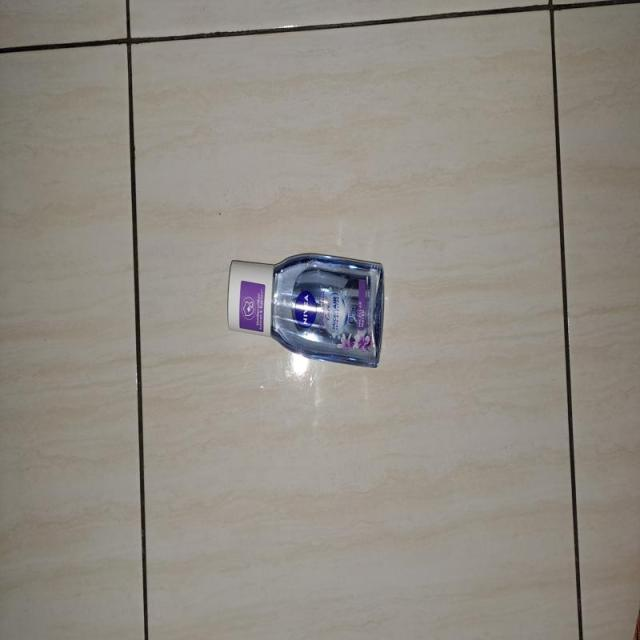Anorganik: (212, 240, 398, 378)
